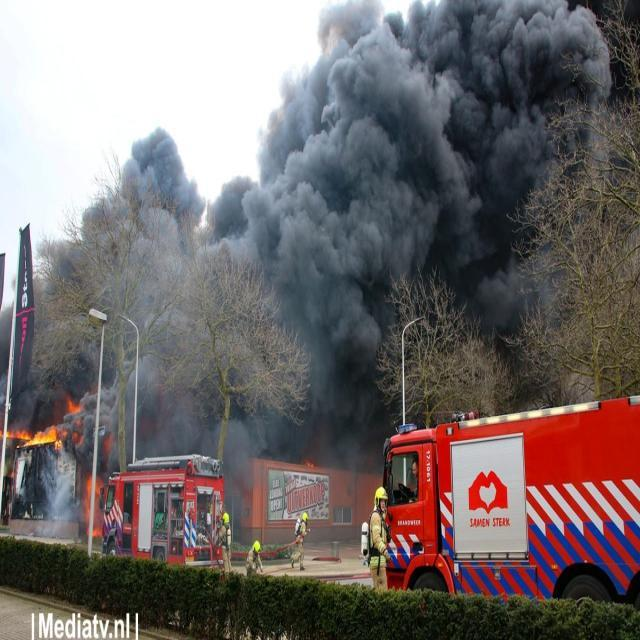Fire: (17, 426, 63, 451), (0, 428, 30, 439), (68, 401, 80, 414), (306, 462, 314, 468)
Smoke: (0, 0, 640, 553)
